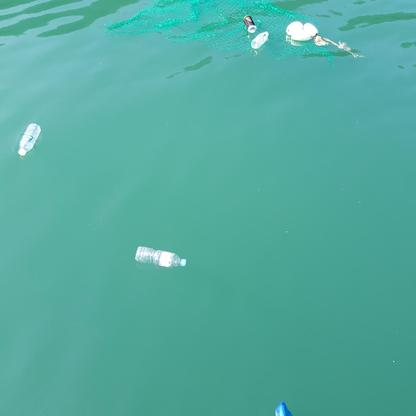can: (242, 13, 256, 32)
plastic bottle: (134, 245, 187, 269), (18, 122, 40, 155), (250, 31, 271, 48)
